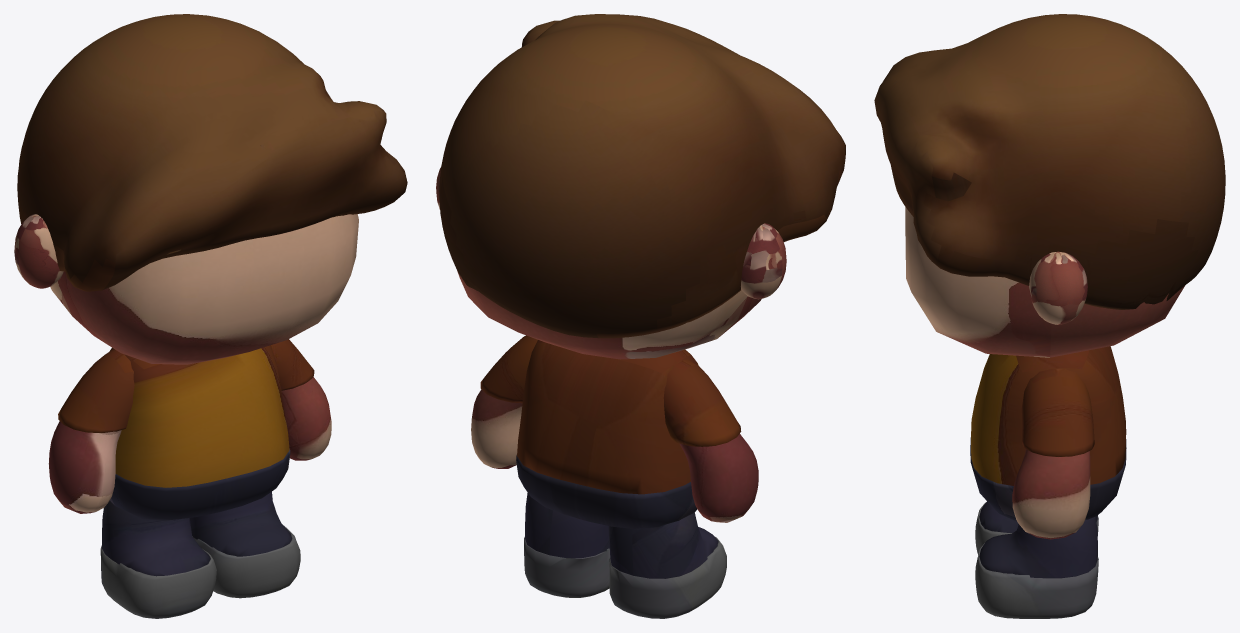
The model's file is npc-joven-1.glb.
3 renders of one model, left to right at view 1: azimuth 30°, elevation 25°; view 2: azimuth 150°, elevation 25°; view 3: azimuth 270°, elevation 25°, orthographic.
Parts seen in each view (by area): view 1: pelo, cabeza, camiseta, pantalon, pantalon_piernaL, brazoL, zapatoL, camiseta_mangaL, pantalon_piernaR, zapatoR, brazoR, orejas (+1 smaller); view 2: pelo, camiseta, cabeza, pantalon, pantalon_piernaL, brazoL, camiseta_mangaL, zapatoL, pantalon_piernaR, zapatoR, brazoR, orejas (+1 smaller); view 3: pelo, cabeza, camiseta, brazoR, camiseta_mangaR, zapatoR, pantalon_piernaR, orejas, pantalon, pantalon_piernaL.
Boxes of the visible parts, x1,y1,x2,y2 form: pelo: (17,14,407,291); cabeza: (50,214,358,364); camiseta: (109,345,289,487); pantalon: (110,448,290,520); pantalon_piernaL: (101,500,210,576); brazoL: (48,421,121,513); zapatoL: (100,545,216,618); camiseta_mangaL: (58,349,134,432); pantalon_piernaR: (189,491,291,556); zapatoR: (192,524,300,598); brazoR: (281,377,331,460); orejas: (14,214,63,288); pelo: (439,14,845,338); camiseta: (517,340,698,494); cabeza: (457,271,761,359); pantalon: (516,455,697,528); pantalon_piernaL: (608,512,718,578); brazoL: (679,433,758,522); camiseta_mangaL: (663,359,741,446); zapatoL: (609,537,726,618); pantalon_piernaR: (525,493,609,558); zapatoR: (524,537,610,597); brazoR: (471,389,522,468); orejas: (436,167,786,299); pelo: (874,14,1225,309); cabeza: (905,207,1185,357); camiseta: (971,346,1126,485); brazoR: (1012,449,1090,539); camiseta_mangaR: (1021,368,1094,456); zapatoR: (975,543,1098,618); pantalon_piernaR: (979,516,1097,578); orejas: (1029,251,1087,324); pantalon: (970,437,1126,521); pantalon_piernaL: (979,501,1097,532).
Size of the model in its own units: 2.93 by 4.57 by 2.62.
5 materials, 5 textured.
